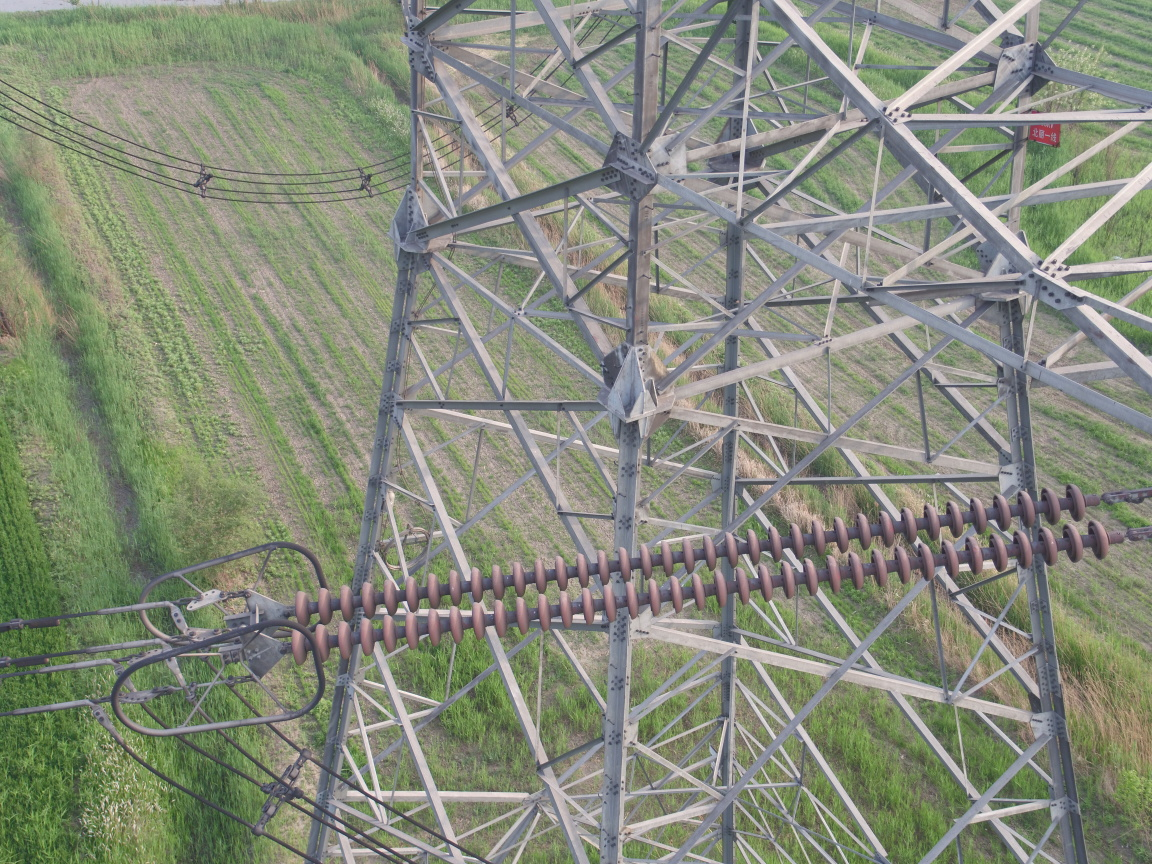insulator: (268, 477, 1139, 673)
